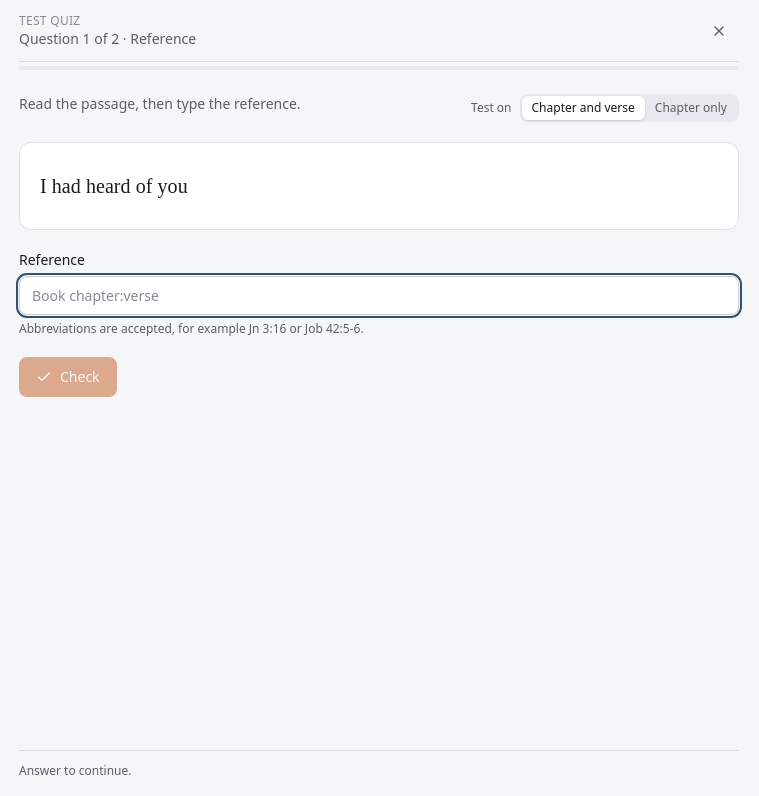
it: QuizRunner reference grading › keeps chapter-only grading for later questions after a toggle
Click the button "Chapter only" at (691, 108), box [645, 96, 737, 120]
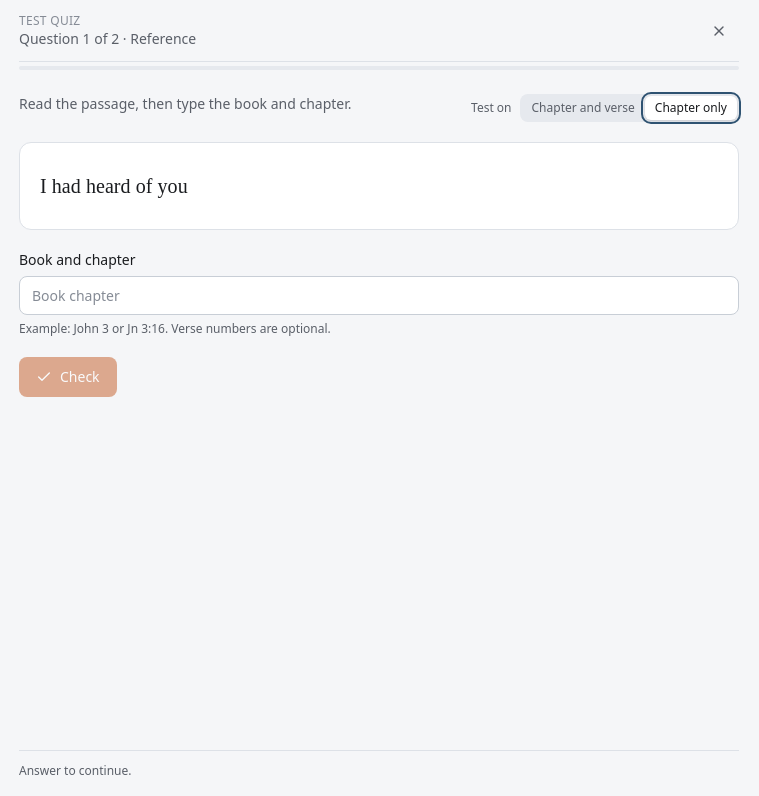
Expected: the button "Chapter only" is pressed, [645, 96, 737, 120]
Type "Job 42" into the field labelled "Book and chapter" at (379, 296), box [19, 276, 739, 315]
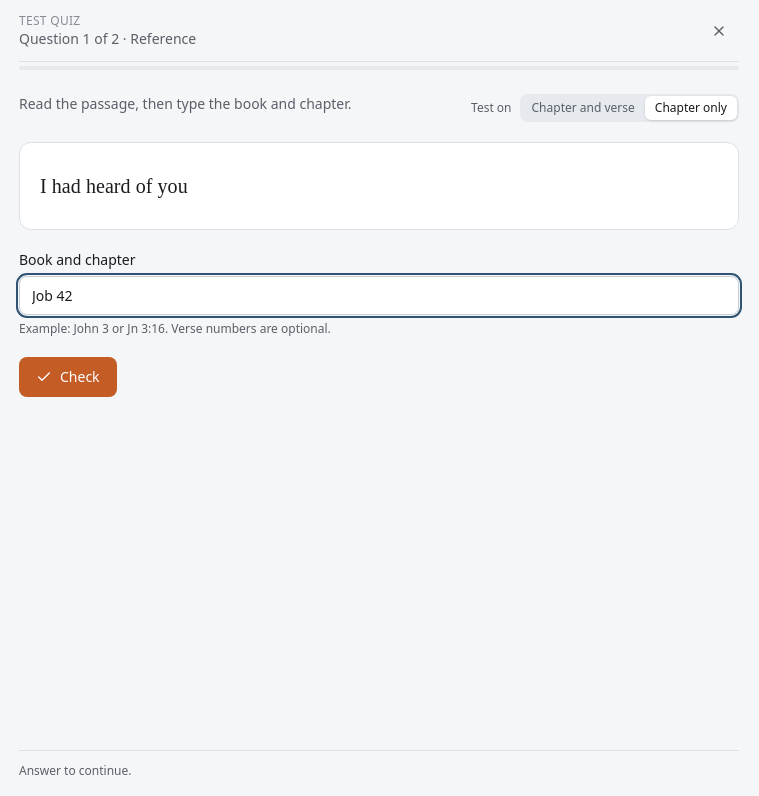
Click the button "Check" at (68, 377), box [19, 357, 117, 397]
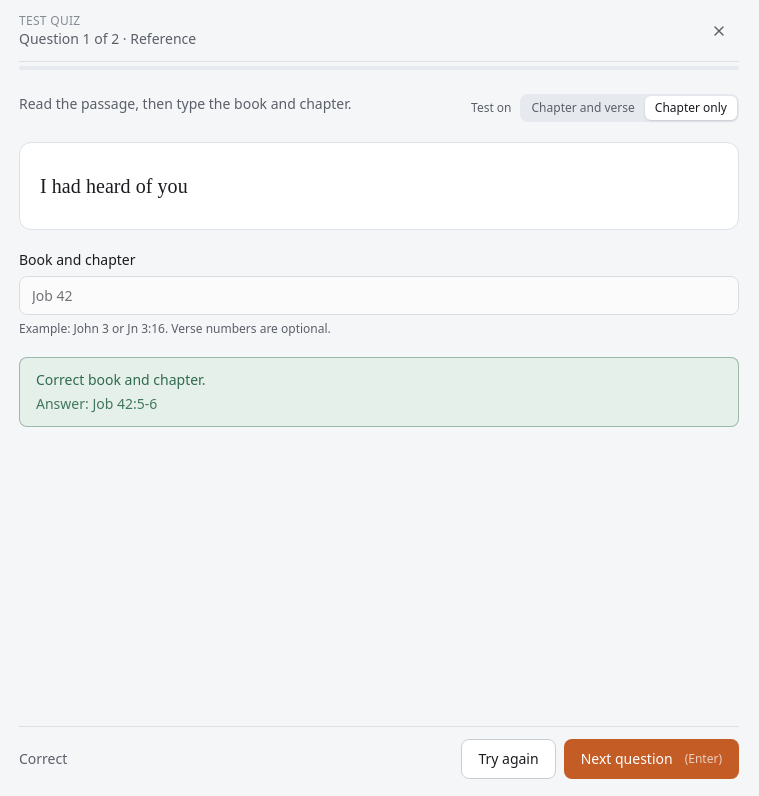
Expected: the message shows "Correct book and chapter", [36, 370, 205, 389]
Click the button "Next question (Enter)" at (651, 759), box [564, 739, 739, 779]
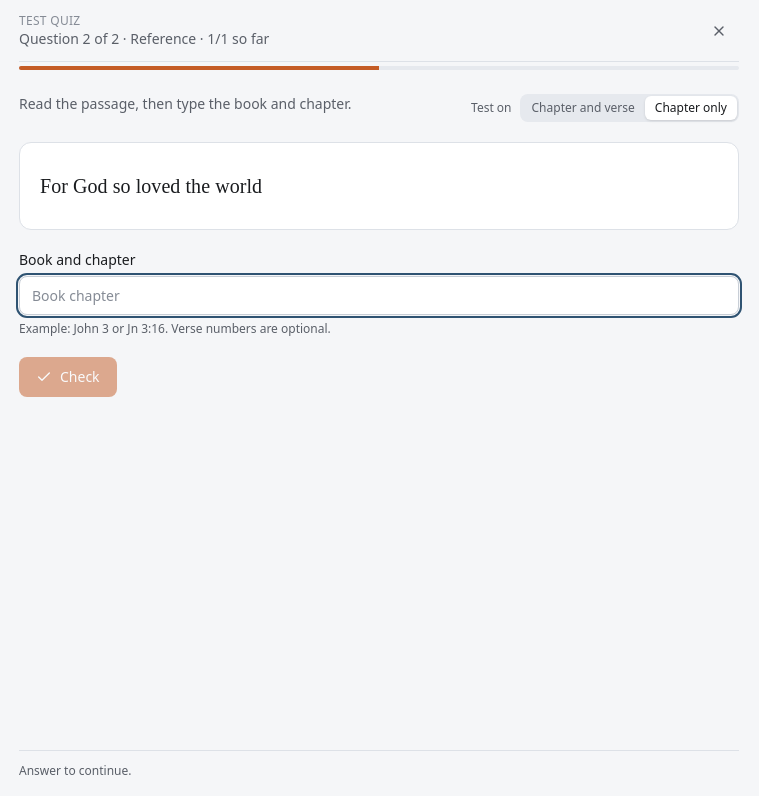
Expected: the button "Chapter only" is pressed, [645, 96, 737, 120]
Type "John 3" into the field labelled "Book and chapter" at (379, 296), box [19, 276, 739, 315]
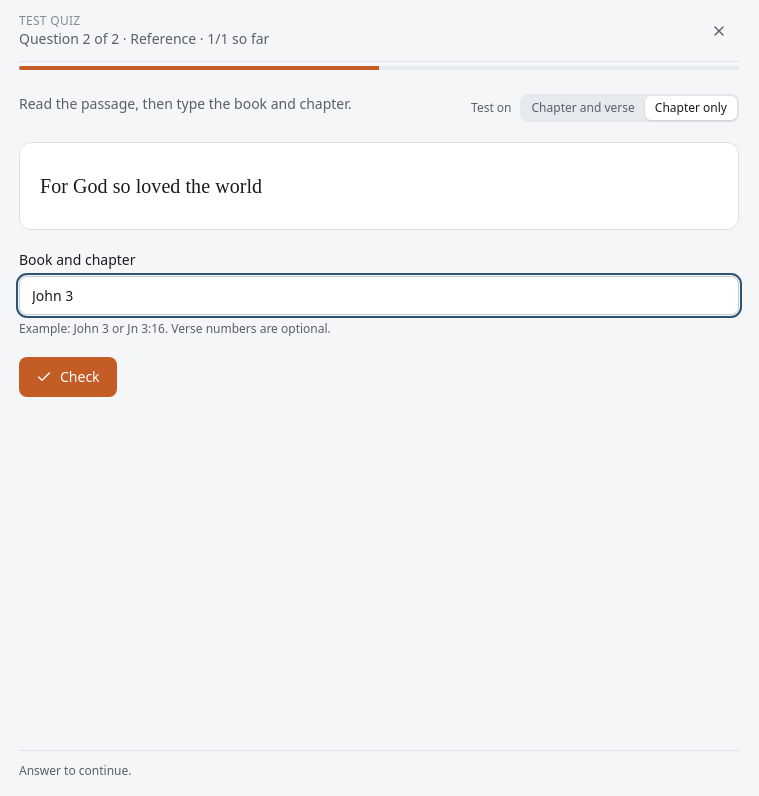
Click the button "Check" at (68, 377), box [19, 357, 117, 397]
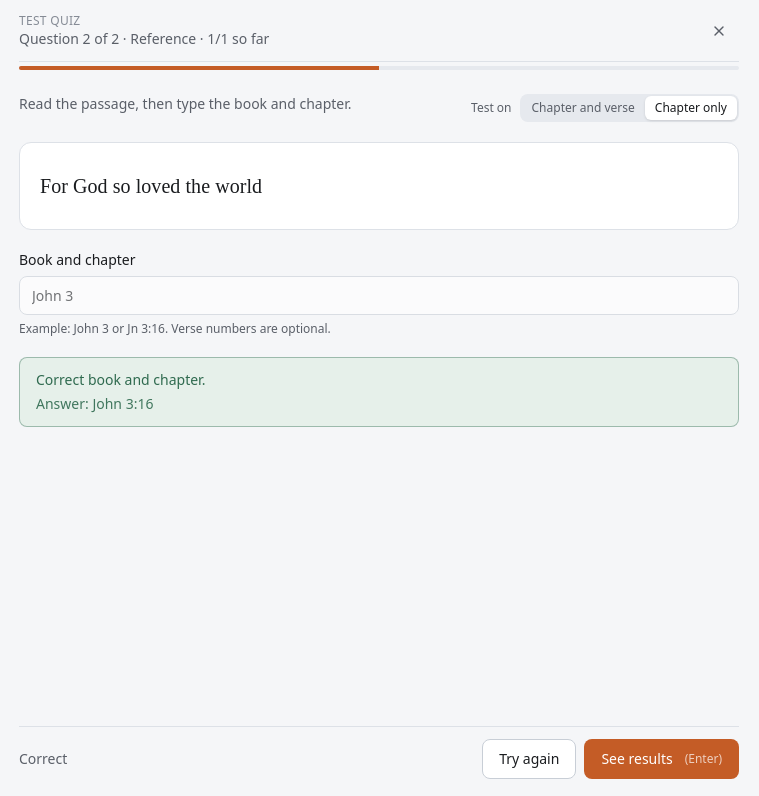
Expected: the message shows "Correct book and chapter", [36, 370, 205, 389]
